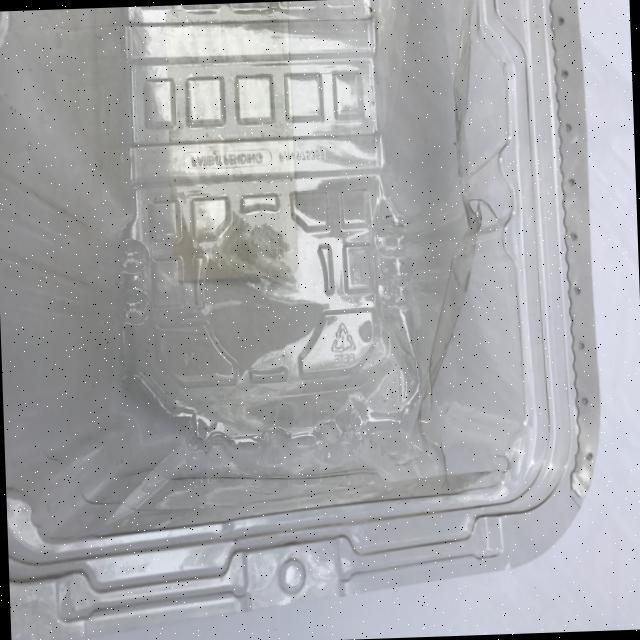plastic: (0, 0, 607, 640)
